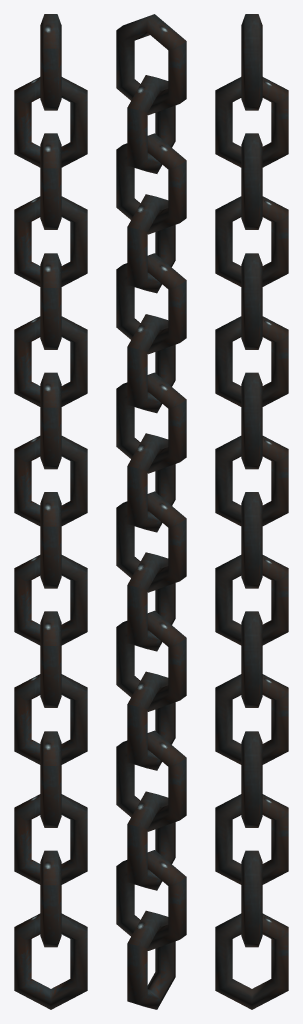
File: chain.fbx
3 renders of one model, left to right at view 1: azimuth 90°, elevation 25°; view 2: azimuth 150°, elevation 25°; view 3: azimuth 270°, elevation 25°, orthographic.
Parts seen in each view (by area): view 1: pTorus20; view 2: pTorus20; view 3: pTorus20.
Boxes of the visible parts, box(x1,y1,x2,y2) form: pTorus20: box(14, 14, 87, 1009); pTorus20: box(116, 14, 186, 1009); pTorus20: box(215, 14, 288, 1009).
Bounding box in the file's own units: 0.1182 × 1.76 × 0.1182.
